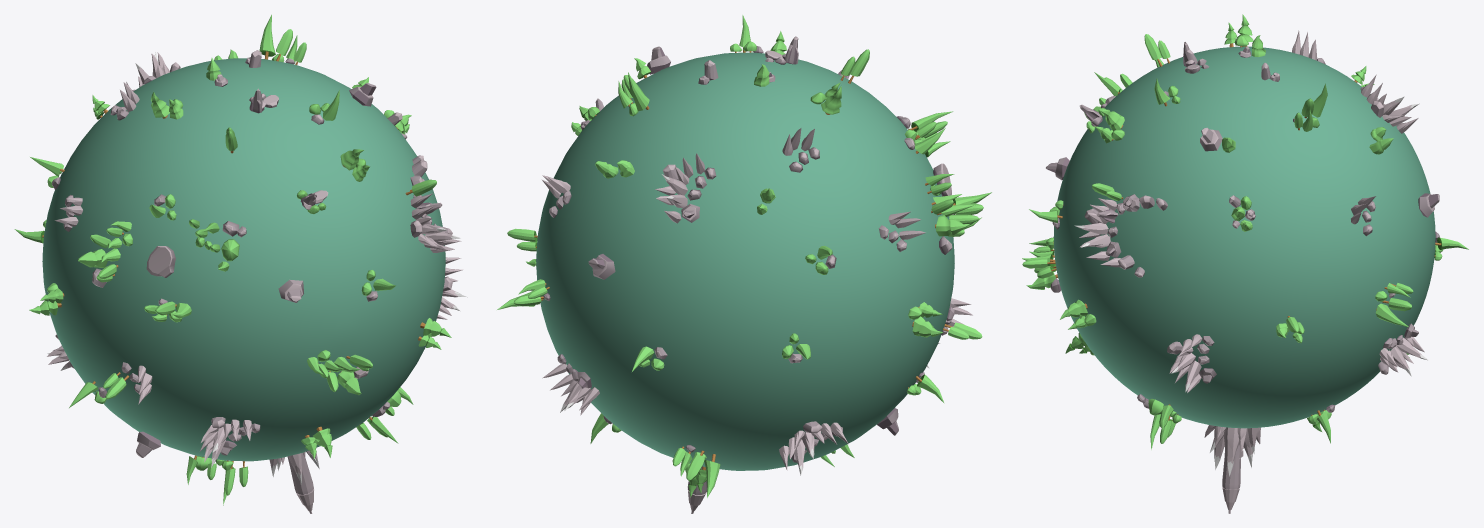
File: enviro_test2.fbx
The picture shows the model from 3 angles, left to right: view 1: azimuth 30°, elevation 25°; view 2: azimuth 150°, elevation 25°; view 3: azimuth 270°, elevation 25°; orthographic projection. The views are drawn at different scales.
Visible parts, largest first — view 1: planet, wizard_tower1, stone_d3; view 2: planet; view 3: planet, wizard_tower1.
Part boxes in pixels (x1,y1,x2,y2): planet: (42,58,445,461); wizard_tower1: (287,453,313,513); stone_d3: (146,246,175,277); planet: (536,52,954,470); planet: (1053,46,1435,428); wizard_tower1: (1222,444,1243,513).
Size of the model in its own units: 92.77 by 102 by 93.98.
